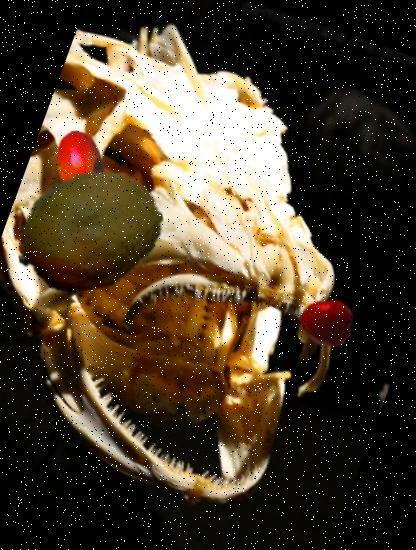Kaki: (43, 122, 117, 196)
Papaya: (0, 136, 185, 327)
Pitahaya: (18, 208, 86, 276)
Tomato: (292, 288, 360, 356)
